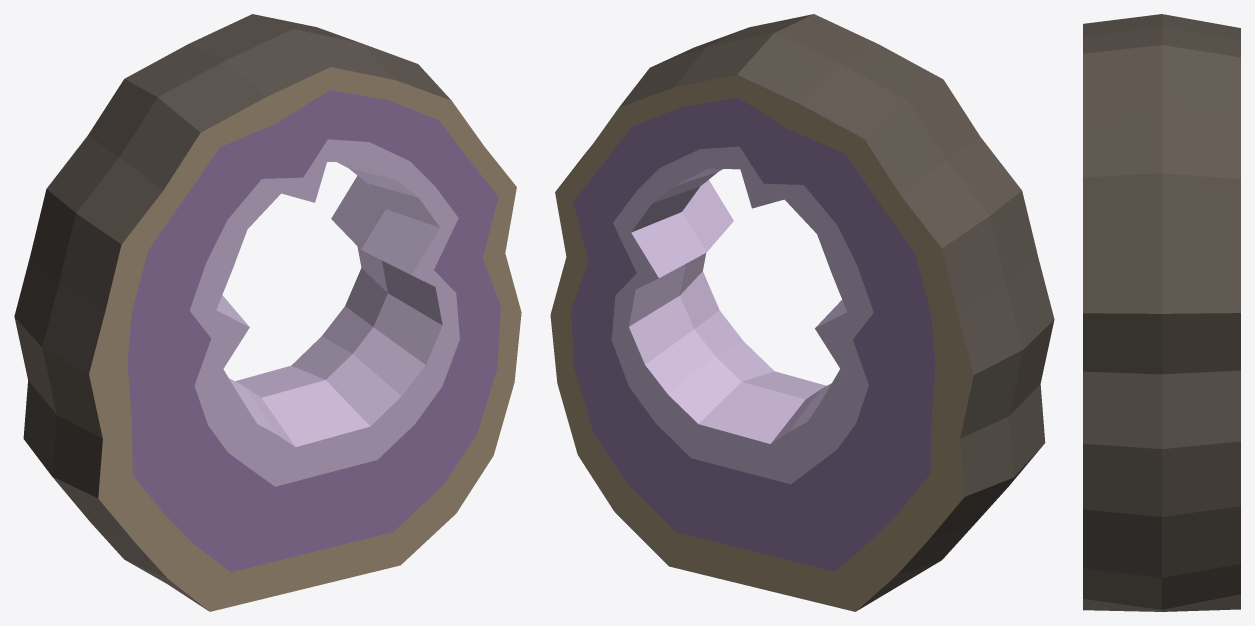
3 views of the same model, side by side, from view 1: azimuth 30°, elevation 25°; view 2: azimuth 150°, elevation 25°; view 3: azimuth 270°, elevation 25° (orthographic).
Visible parts, largest first — view 1: OneContinuousOpenCoreMineral; view 2: OneContinuousOpenCoreMineral; view 3: OneContinuousOpenCoreMineral.
Part boxes in pixels (left/top/right/bottom): OneContinuousOpenCoreMineral: left=14, top=14, right=521, bottom=611; OneContinuousOpenCoreMineral: left=550, top=14, right=1054, bottom=611; OneContinuousOpenCoreMineral: left=1083, top=14, right=1240, bottom=611.
Bounding box in the file's own units: 0.93 × 1.04 × 0.28.
